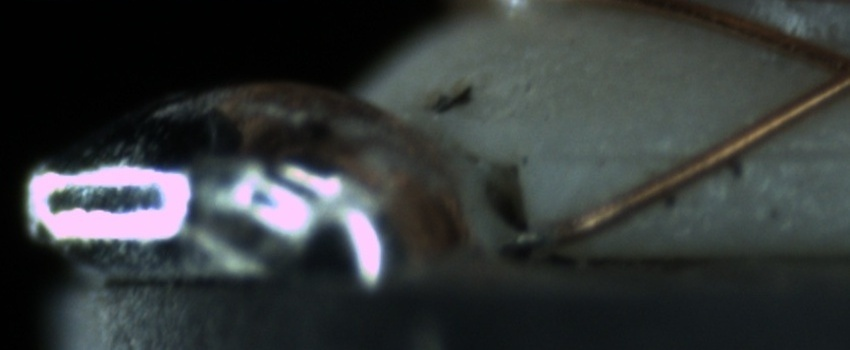CL: (801, 31, 850, 110)
DL: (552, 119, 847, 186)
